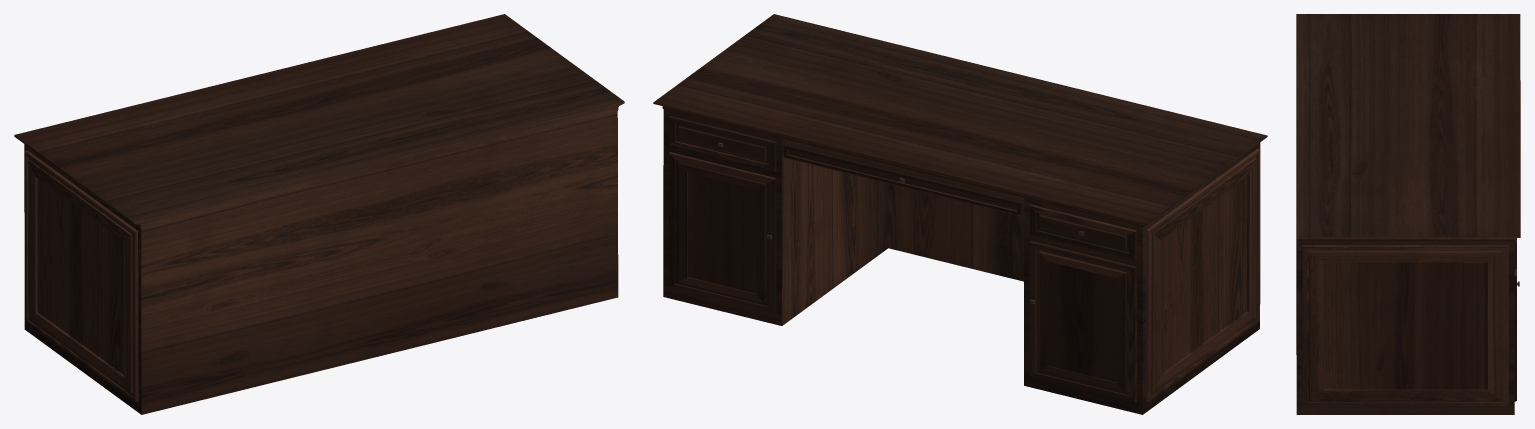
The model's file is FUR0210056.fbx.
3 renders of one model, left to right at view 1: azimuth 30°, elevation 25°; view 2: azimuth 150°, elevation 25°; view 3: azimuth 270°, elevation 25°, orthographic. The views are drawn at different scales.
Parts seen in each view (by area): view 1: smFUR0210056; view 2: smFUR0210056; view 3: smFUR0210056.
Part boxes in pixels (x1,y1,x2,y2): smFUR0210056: (14, 14, 624, 414); smFUR0210056: (653, 14, 1267, 414); smFUR0210056: (1296, 14, 1520, 414).
Bounding box in the file's own units: 254 × 96.66 × 108.
Materials: 1 (1 with a texture image).
